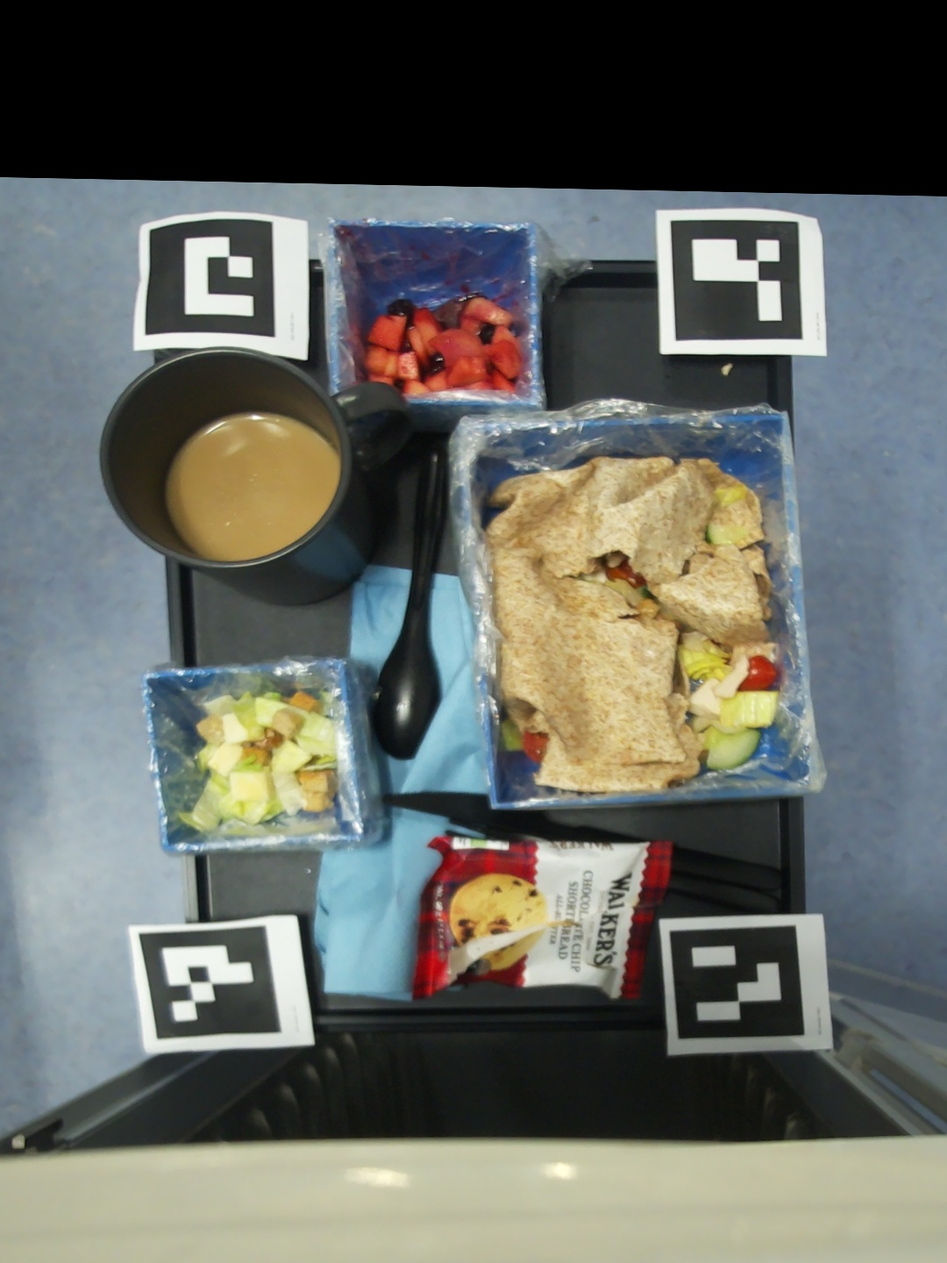coffee_cup: (100, 347, 411, 604)
cookie: (413, 836, 672, 1000)
fruit_salad: (363, 292, 527, 393)
side_salad: (178, 691, 340, 836)
wrap_half_1: (486, 455, 770, 792)
wrap_half_2: (689, 482, 780, 770)
